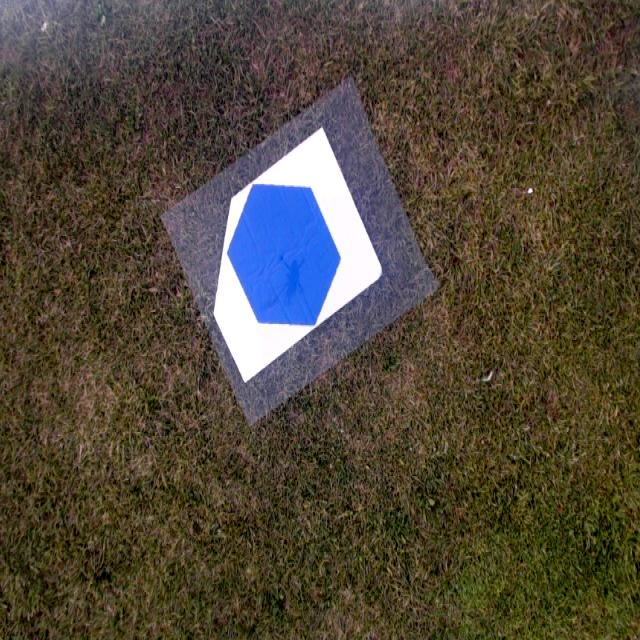blue_hexagon: (226, 182, 342, 327)
